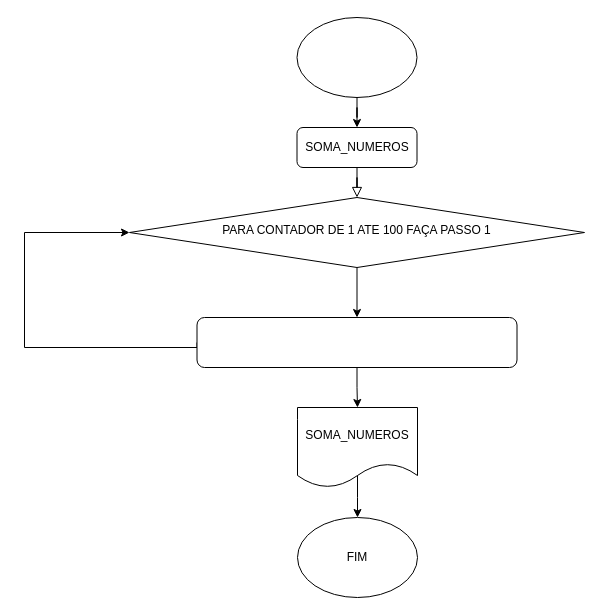
Some shapes in this 602 by 615 pixel diagram are drawn without their labels. Each missing label, with the centre of its shape:
"INICIO" belongs at [356,57].
"SOMA_NUMEROS = SOMA_NUMEROS + CONTADOR" belongs at [356,342].
